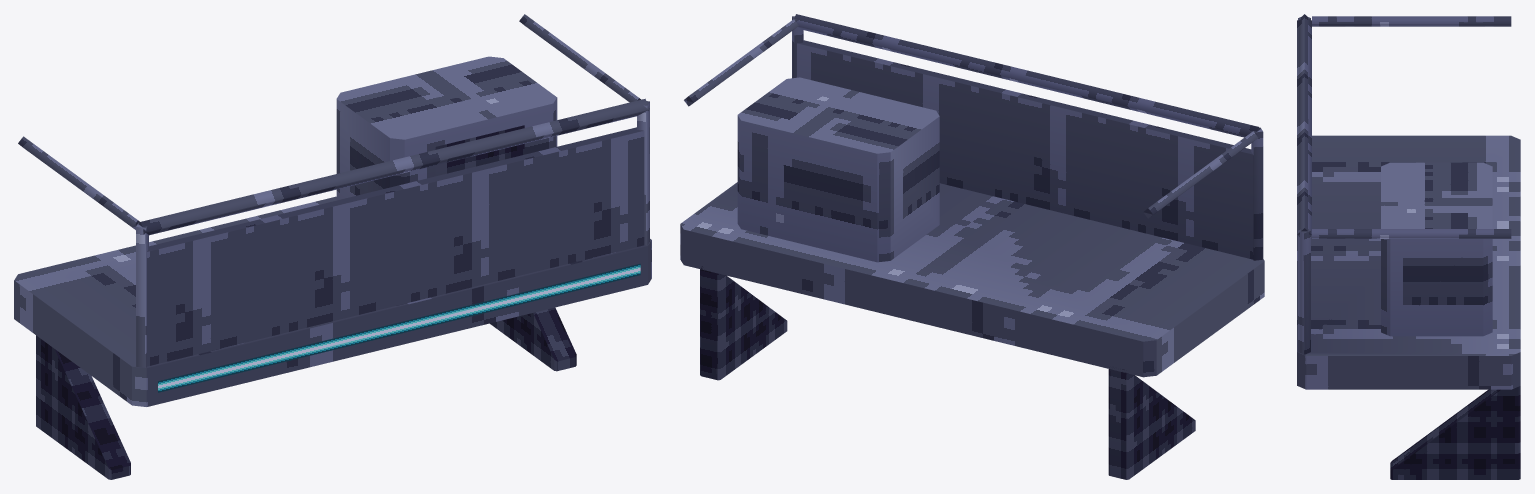
The model's file is cytower.balcony.glb.
3 views of the same model, side by side, from view 1: azimuth 30°, elevation 25°; view 2: azimuth 150°, elevation 25°; view 3: azimuth 270°, elevation 25° (orthographic). The views are drawn at different scales.
Parts seen in each view (by area): view 1: kit_slab, kit_kit, kit_card_cards; view 2: kit_slab, kit_kit; view 3: kit_slab, kit_kit.
Part boxes in pixels (x1,y1,x2,y2): kit_slab: (14,14,651,479); kit_kit: (336,56,557,200); kit_card_cards: (158,125,640,392); kit_slab: (680,14,1264,479); kit_kit: (737,77,939,262); kit_slab: (1297,14,1520,479); kit_kit: (1381,162,1492,336).
Bounding box in the file's own units: 2.8 × 1.54 × 1.22.
Materials: 5 (5 with a texture image).
